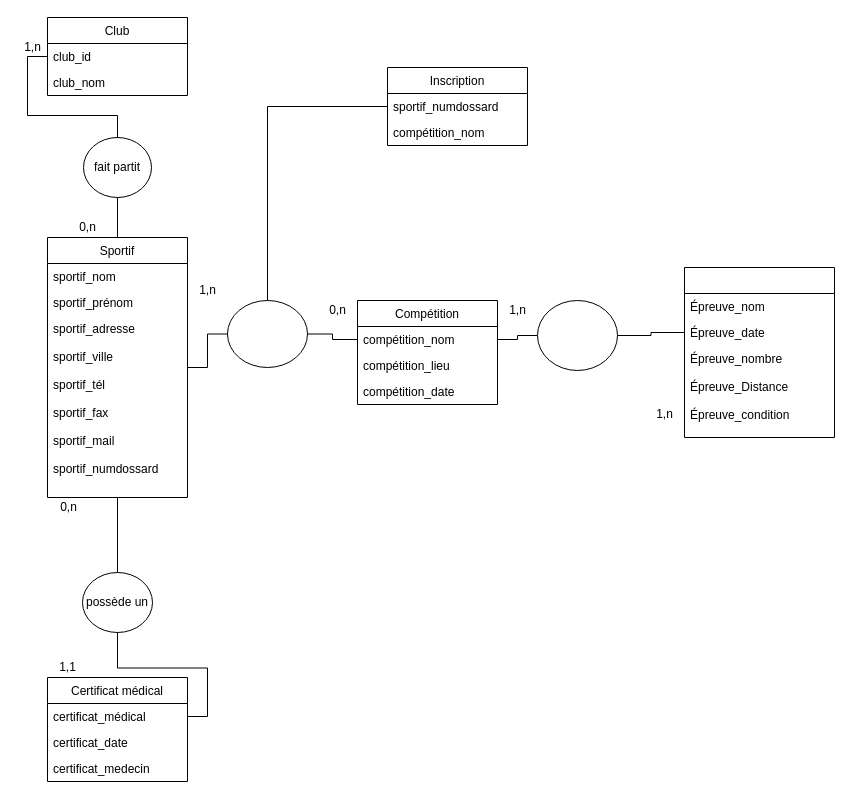
The diagram is 852 pixels wide and 802 high, and some of its shapes have lost their labels. Here are the shapes that lost their labels. From the top down, the box of each, then its label:
(226, 300, 308, 368): s'inscrit
(536, 300, 618, 370): composé
(684, 266, 834, 438): Epreuves
